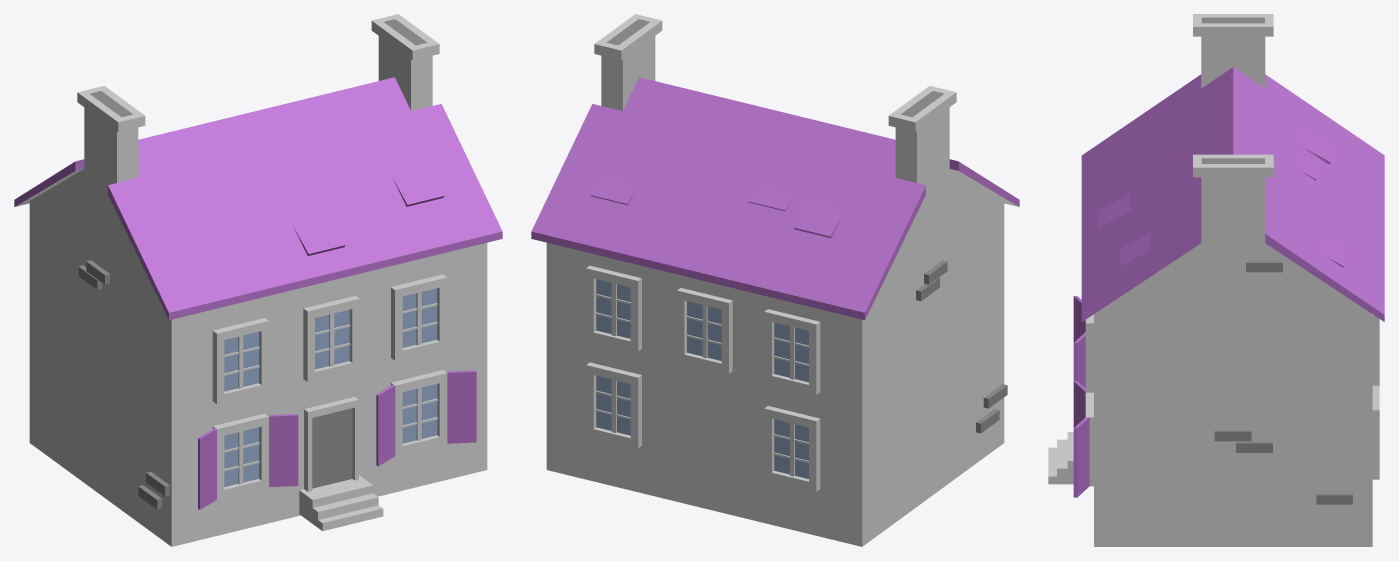
Rendered from new_house4.fbx.
3 views of the same model, side by side, from view 1: azimuth 30°, elevation 25°; view 2: azimuth 150°, elevation 25°; view 3: azimuth 270°, elevation 25° (orthographic).
Visible parts, largest first — view 1: дом4; view 2: дом4; view 3: дом4.
Boxes of the visible parts, x1,y1,x2,y2 form: дом4: (14,14,502,546); дом4: (531,14,1019,546); дом4: (1048,14,1384,546).
Size of the model in its own units: 312 by 347 by 278.
